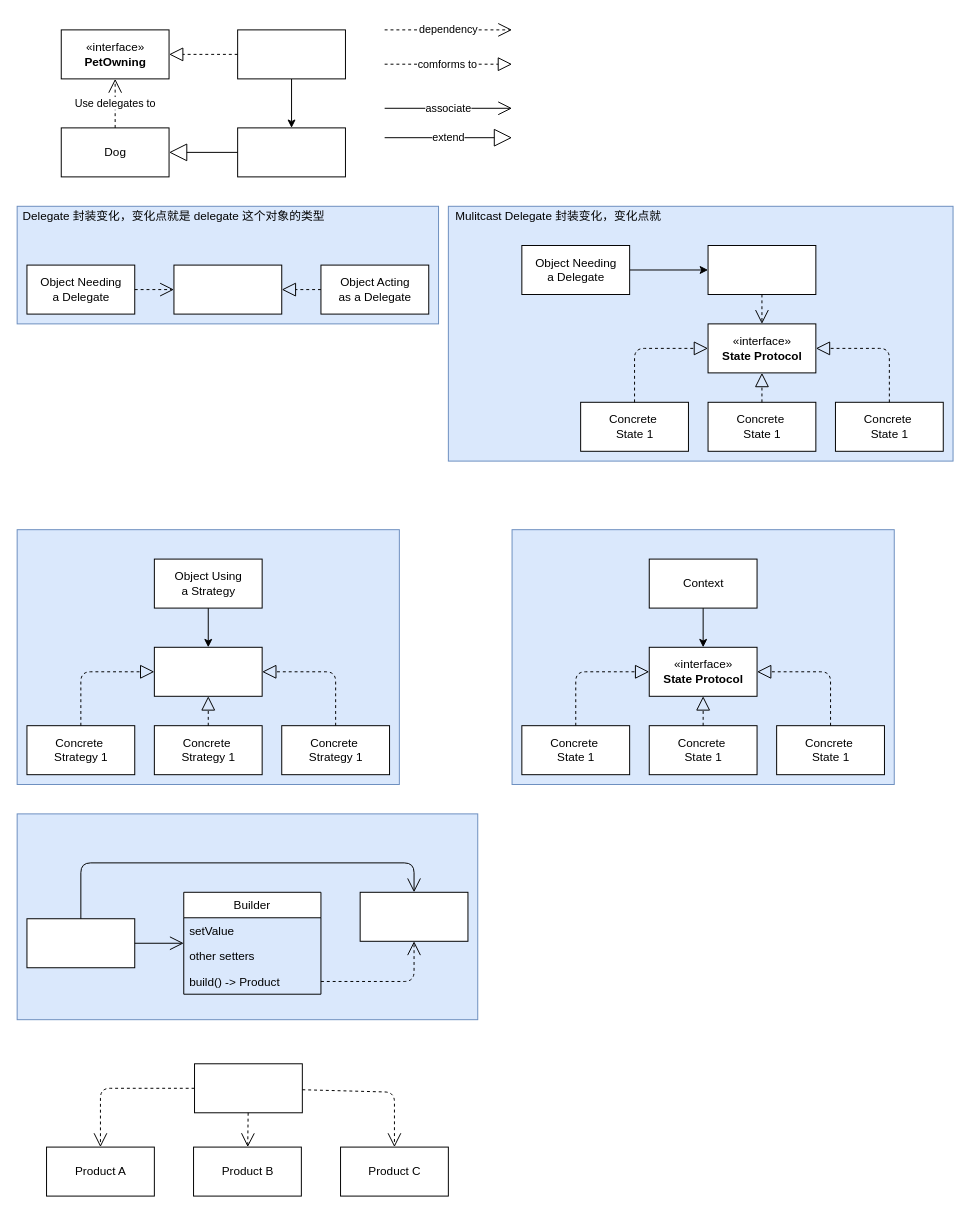
This 970x1213 diagram has some shape labels left out. The centre of each missing label's shape, as x and y in pixels:
Director: point (80, 943)
Factory: point (248, 1088)
Farmer: point (291, 54)
Multicast Delegate<T>: point (761, 269)
Product: point (413, 916)
SheepDog: point (291, 152)
«interface» Delegate Protocol: point (227, 289)
«interface» Strategy Protocol: point (207, 671)
